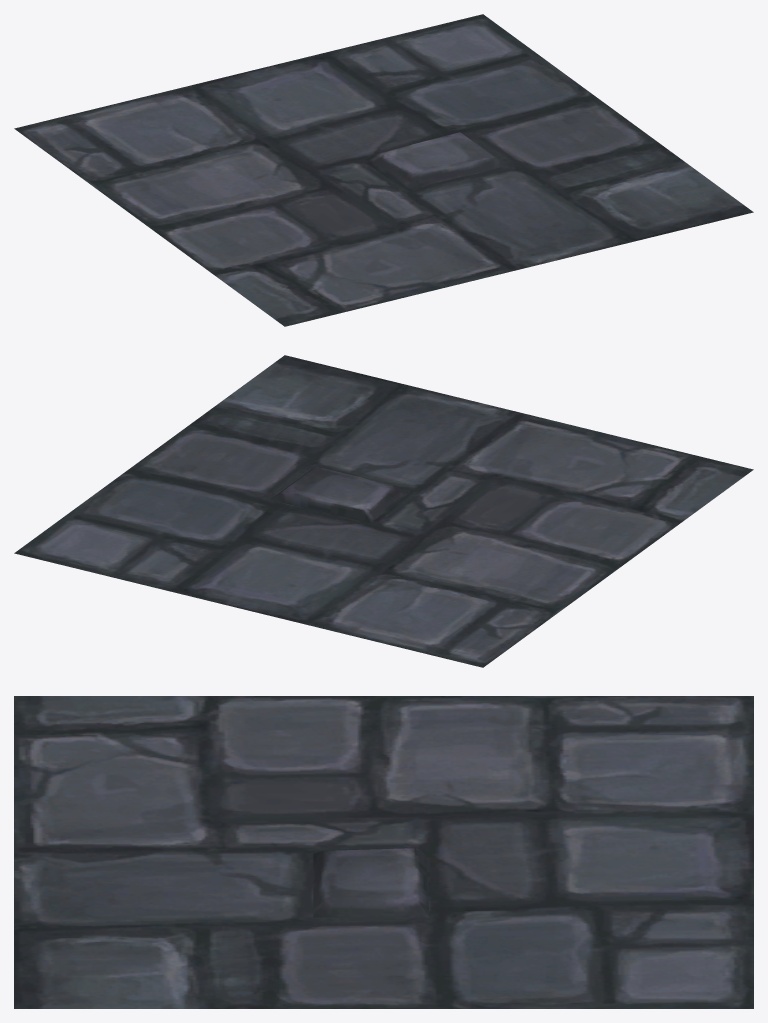
File: crypt_floor_blank_04.fbx
3 views of the same model, one above another, from view 1: azimuth 30°, elevation 25°; view 2: azimuth 150°, elevation 25°; view 3: azimuth 270°, elevation 25° (orthographic). The views are drawn at different scales.
Parts seen in each view (by area): view 1: crypt_tileset/crypt_floor01_shadow; view 2: crypt_tileset/crypt_floor01_shadow; view 3: crypt_tileset/crypt_floor01_shadow.
Boxes of the visible parts, <box> form: crypt_tileset/crypt_floor01_shadow: <box>14,14,753,326</box>; crypt_tileset/crypt_floor01_shadow: <box>14,355,753,667</box>; crypt_tileset/crypt_floor01_shadow: <box>14,696,753,1008</box>.
Bounding box in the file's own units: 4 × 0.1615 × 4.
